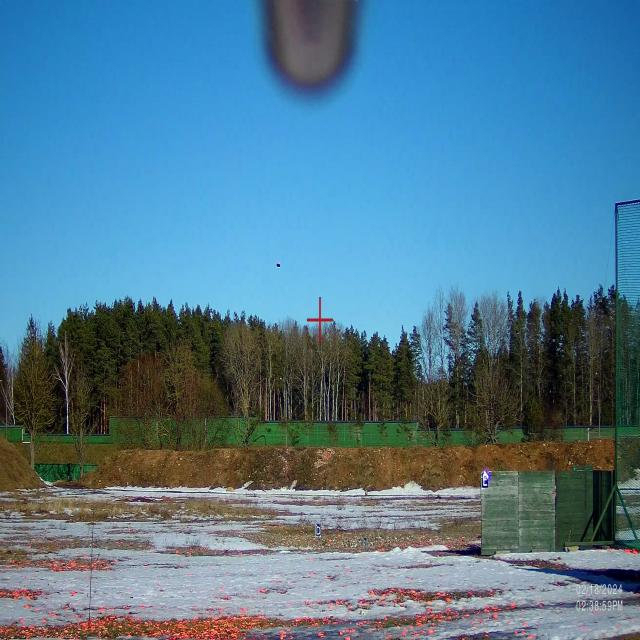entire: (273, 258, 283, 274)
